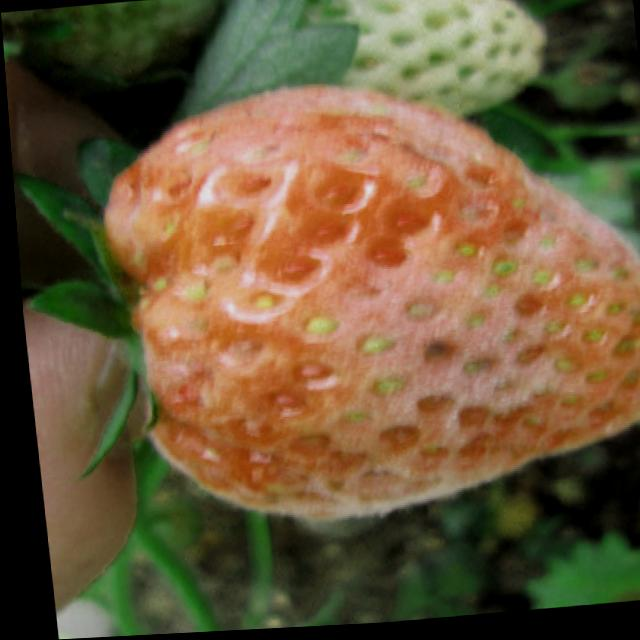Powdery Mildew Fruit: (98, 82, 640, 520)
